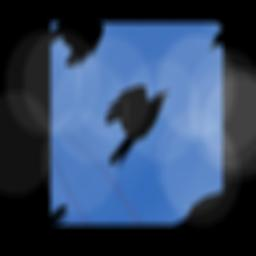Crow: (85, 63, 181, 173)
